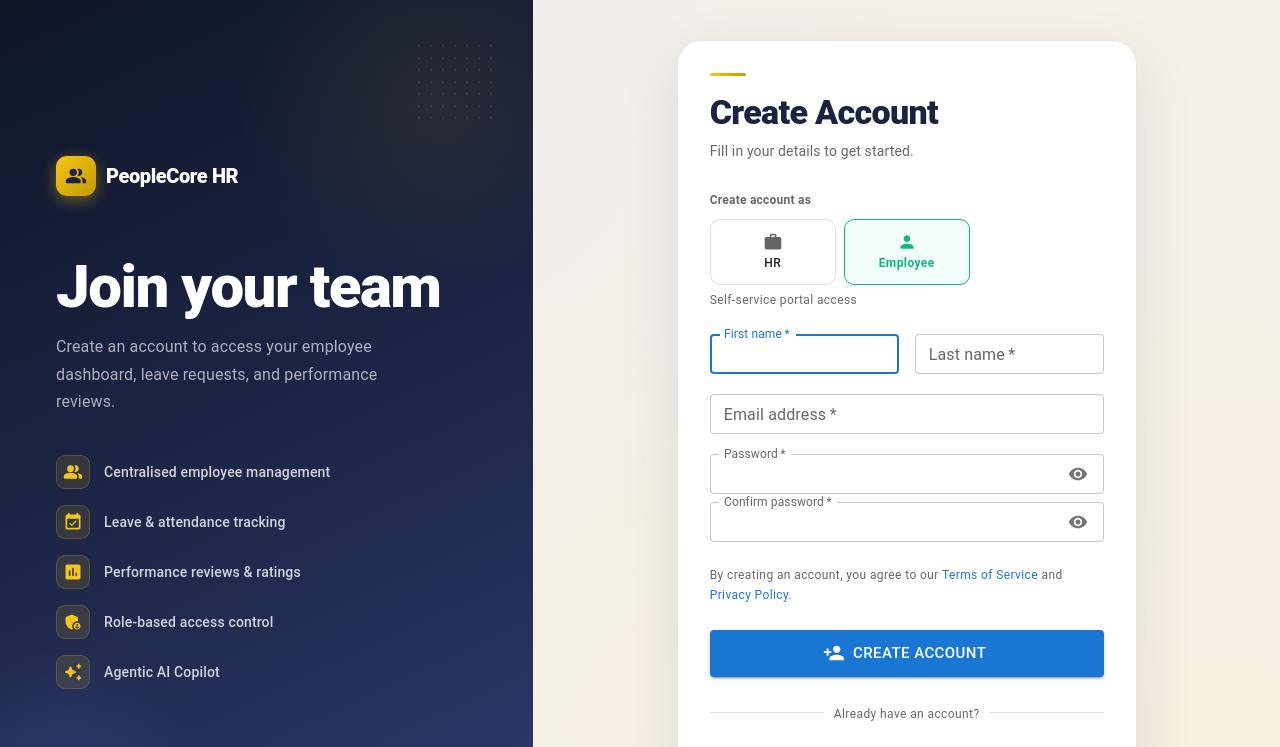
RegisterPage › Error handling › shows 409 duplicate email message at form level
Type "Jane" into the field labelled "First name *".
click(804, 354); type("Jane")  # box [710,334,899,374]
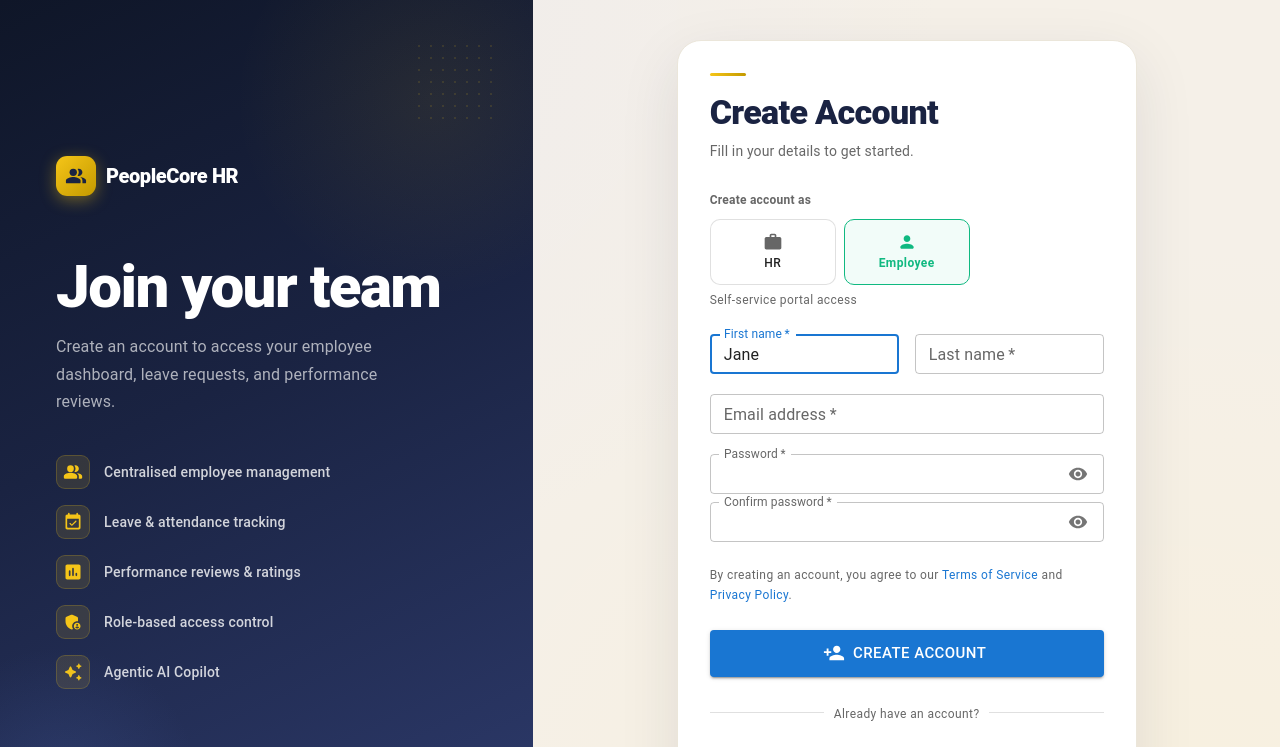
Type "Smith" into the field labelled "Last name *".
click(1009, 354); type("Smith")  # box [915,334,1104,374]
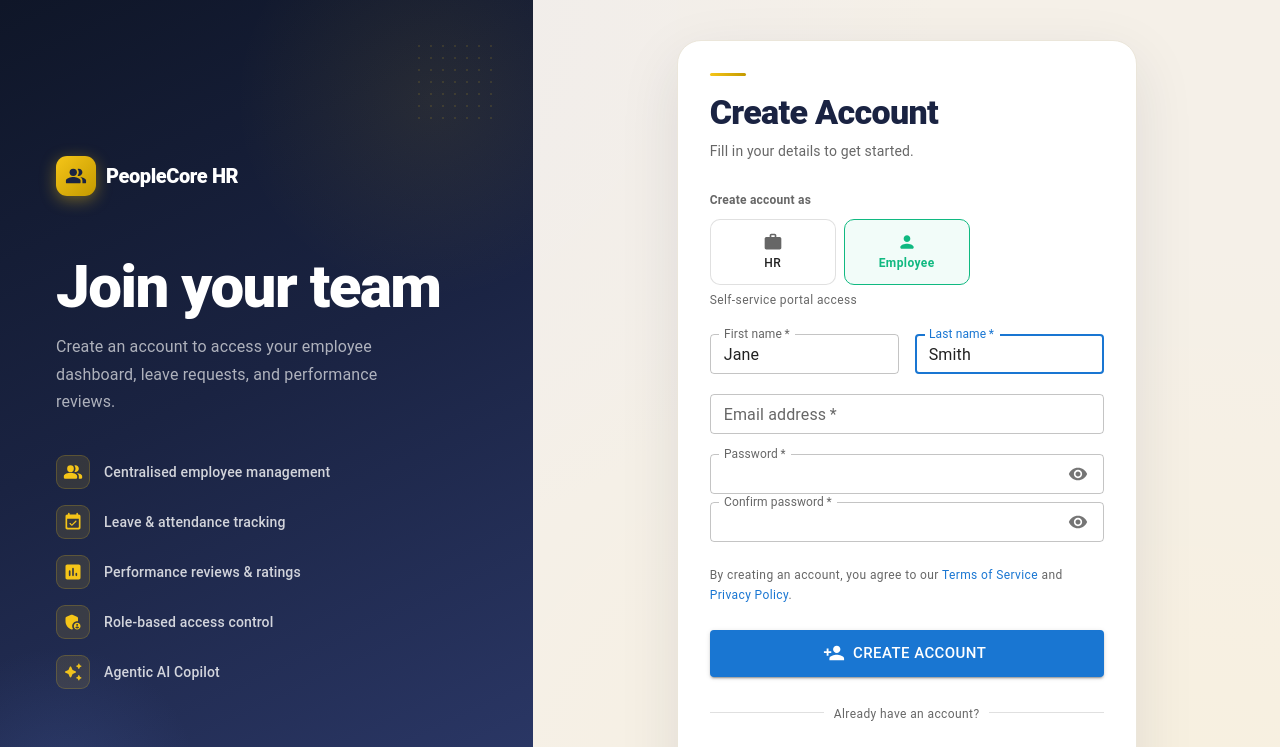
Type "jane@example.com" into the field labelled "Email address *".
click(907, 414); type("jane@example.com")  # box [710,394,1104,434]
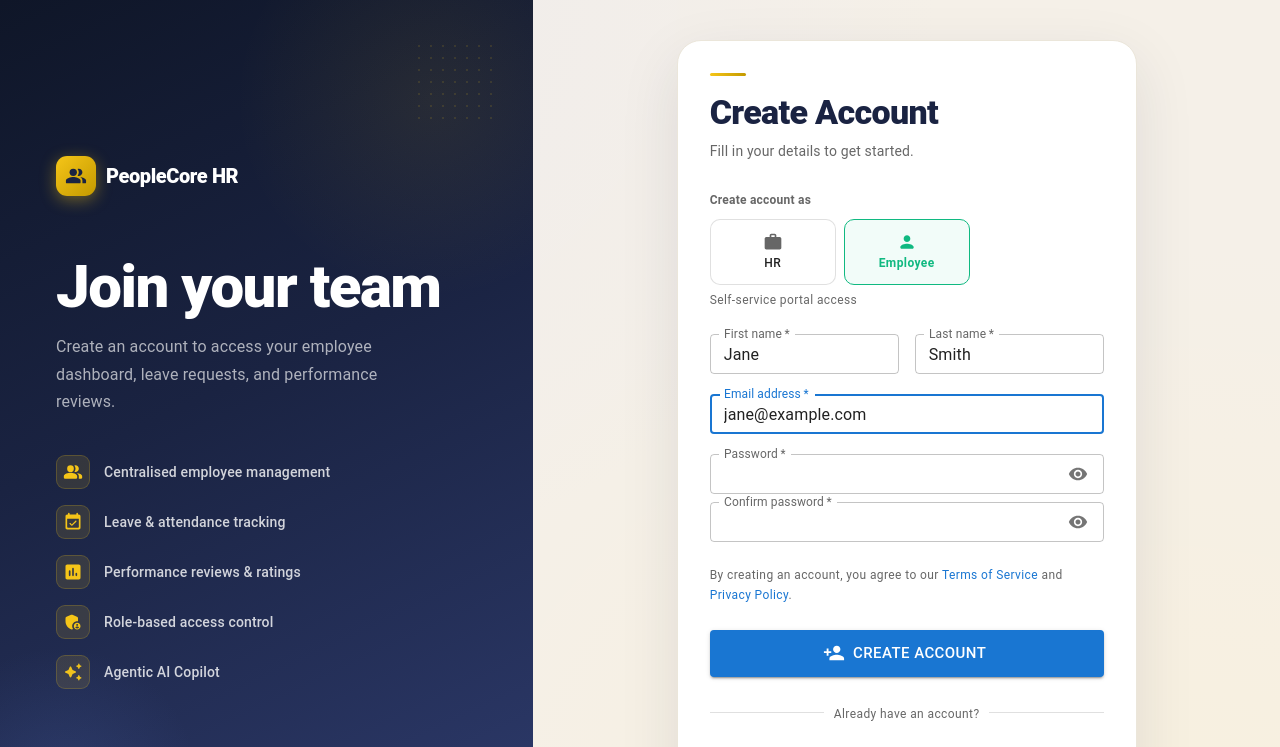
Type "StrongP@ss1" into the password field labelled "Password *".
click(882, 474); type("StrongP@ss1")  # box [710,454,1055,494]
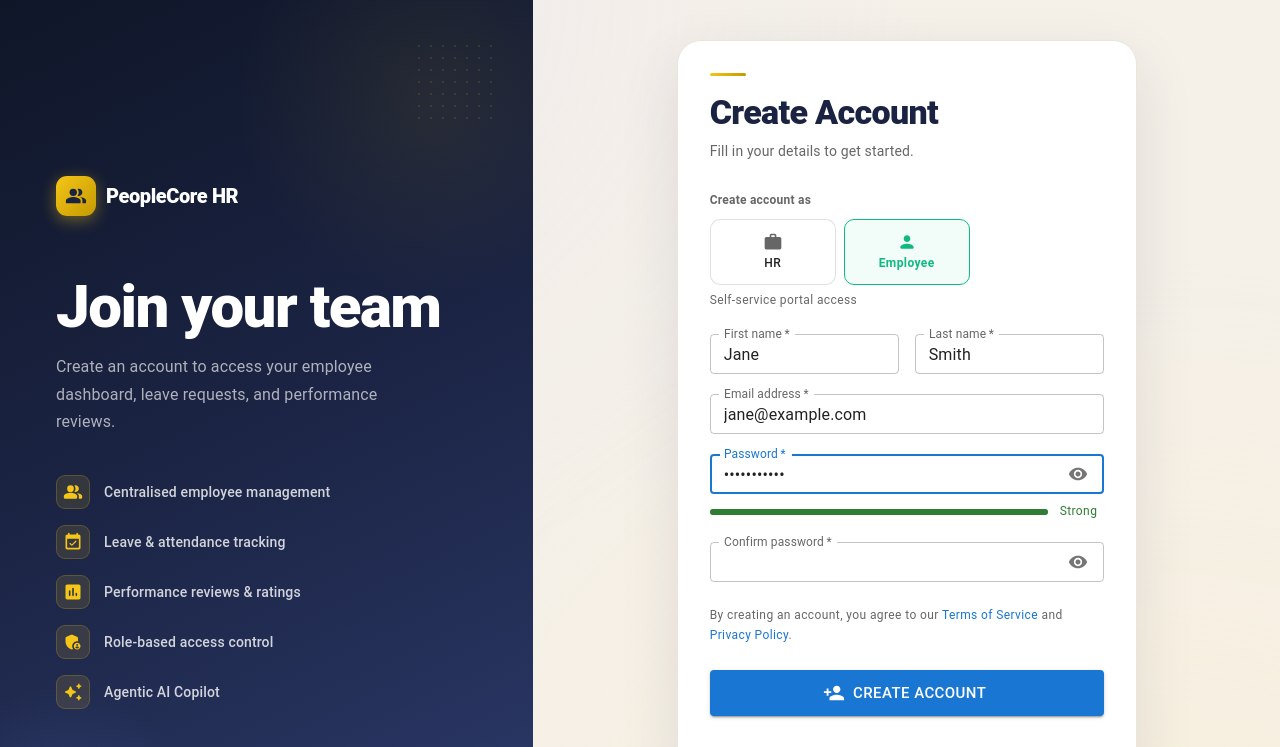
Type "StrongP@ss1" into the password field labelled "Confirm password *".
click(882, 562); type("StrongP@ss1")  # box [710,542,1055,582]
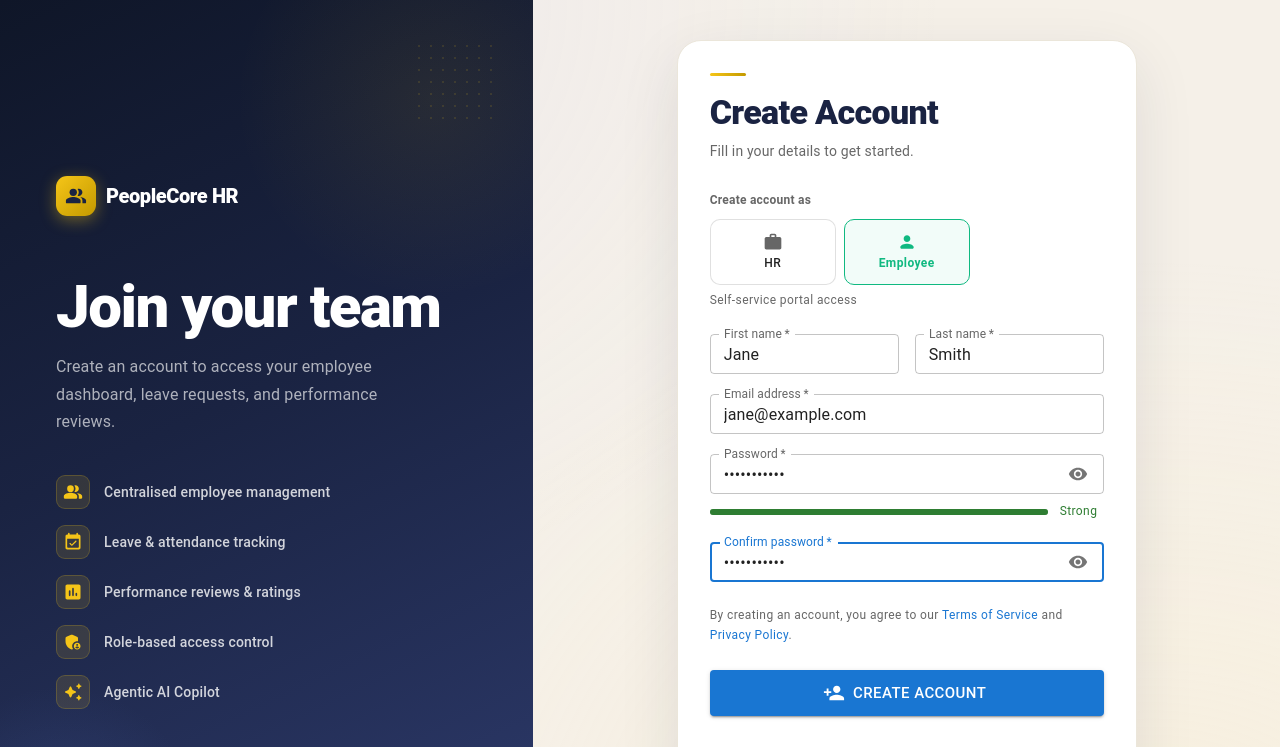
Click the button "Create Account".
click(907, 693)  # box [710,670,1104,716]
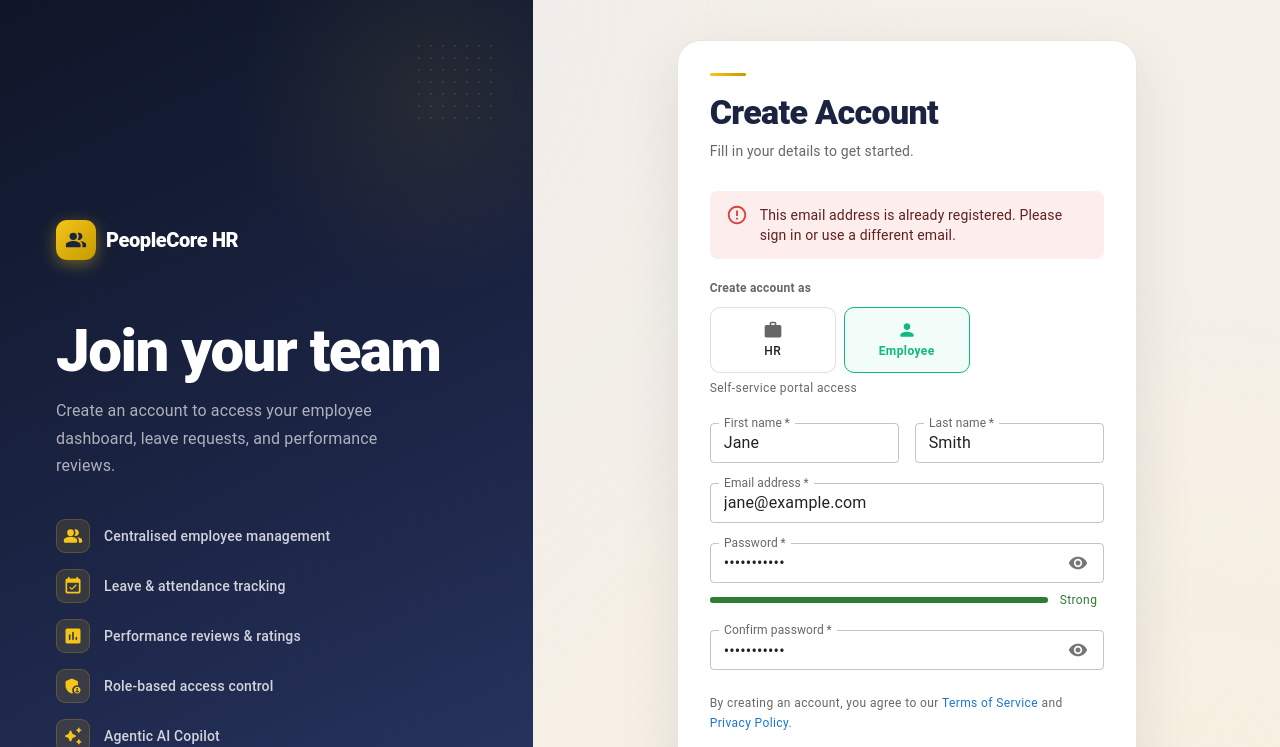
Now the message shows "already registered", box [760,207,1062,243]
